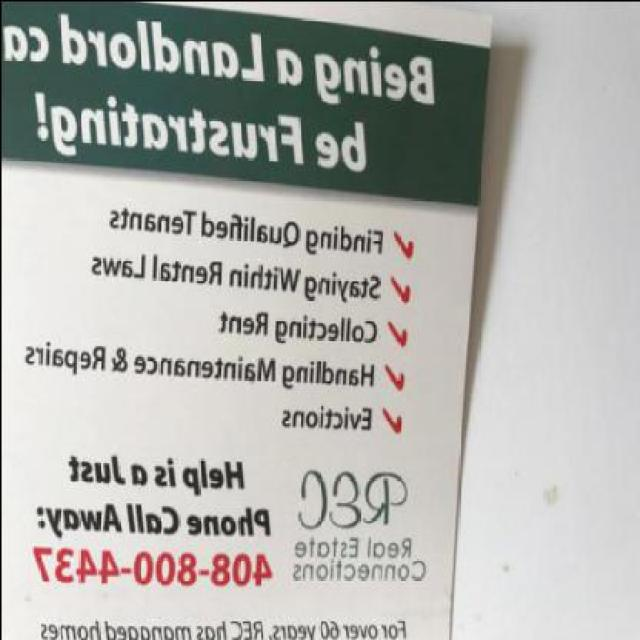PAPER: (1, 1, 494, 638)
